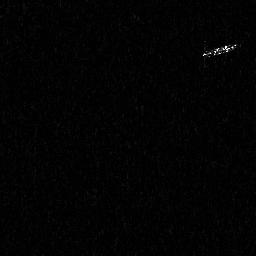ship: (200, 39, 242, 65)
